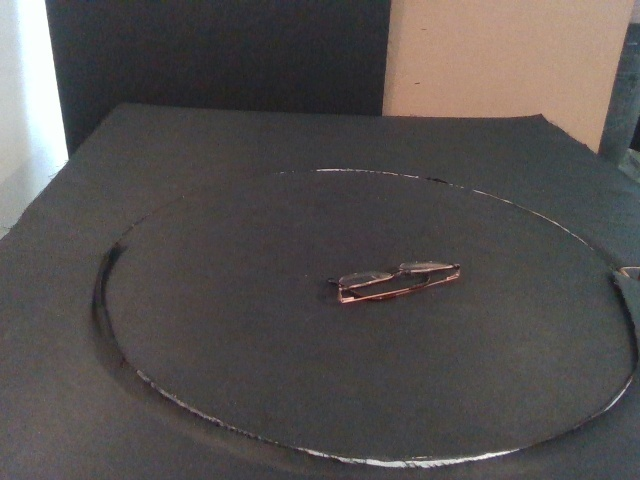glasses: (325, 259, 462, 306)
